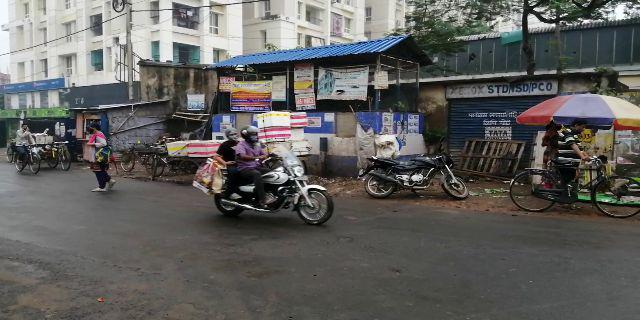Cycle: (504, 152, 640, 222)
Motorbike: (189, 123, 337, 223), (364, 156, 471, 199)
